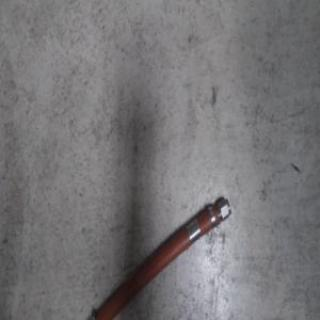Hosetrack_idkeyframe: (75, 192, 232, 319)
